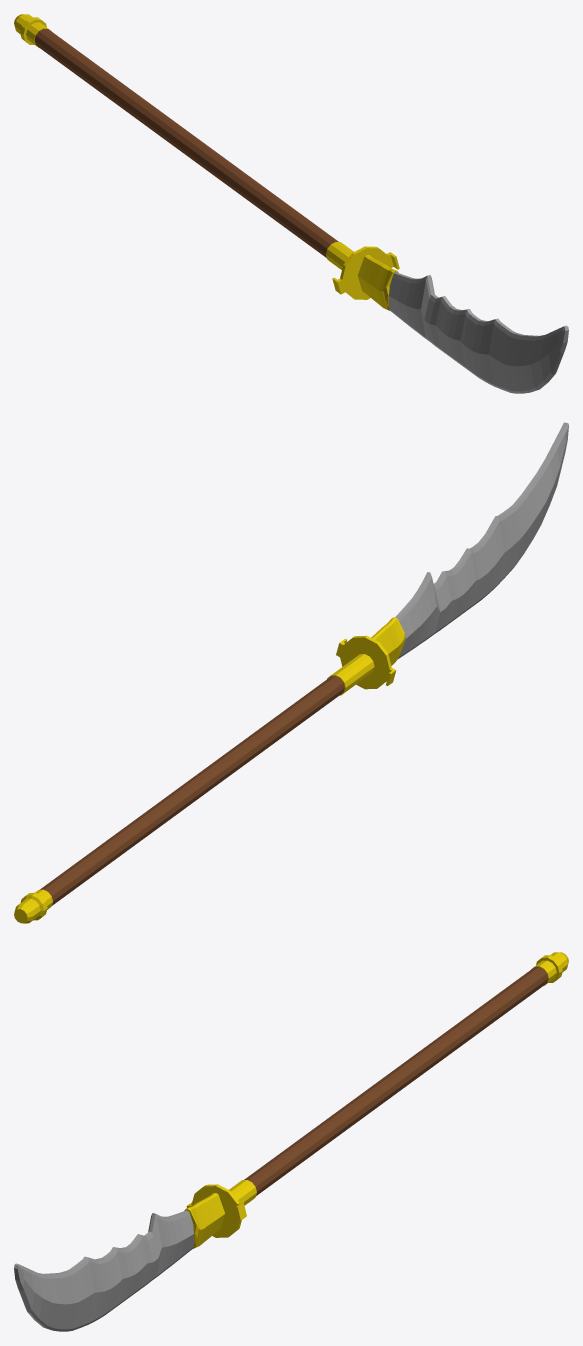
Rendered from Spear.fbx.
3 views of the same model, one above another, from view 1: azimuth 30°, elevation 25°; view 2: azimuth 150°, elevation 25°; view 3: azimuth 330°, elevation 25° (orthographic).
Visible parts, largest first — view 1: Spear; view 2: Spear; view 3: Spear.
Part boxes in pixels (x1=…): Spear: x1=14, y1=14, x2=568, y2=393; Spear: x1=14, y1=422, x2=568, y2=923; Spear: x1=14, y1=952, x2=568, y2=1331.
Size of the model in its own units: 55.79 by 109 by 906.
